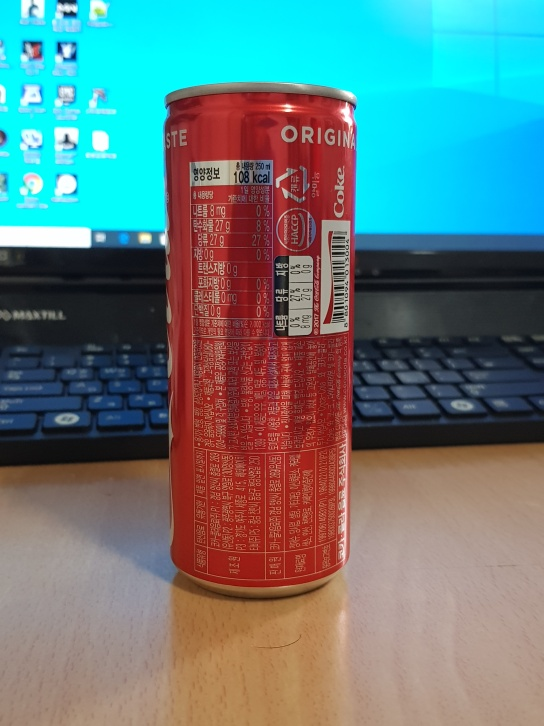Can: (155, 78, 363, 601)
